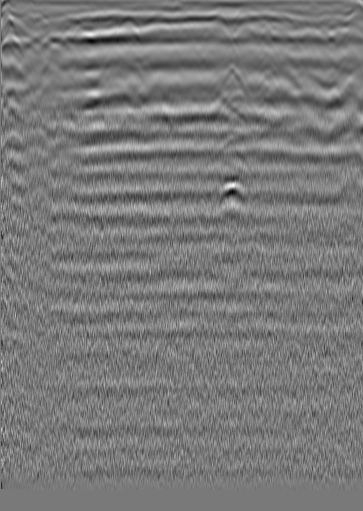가스: (211, 180, 251, 211)
상수: (295, 24, 322, 47)
오수: (15, 38, 35, 58)
우수: (164, 18, 184, 38)
